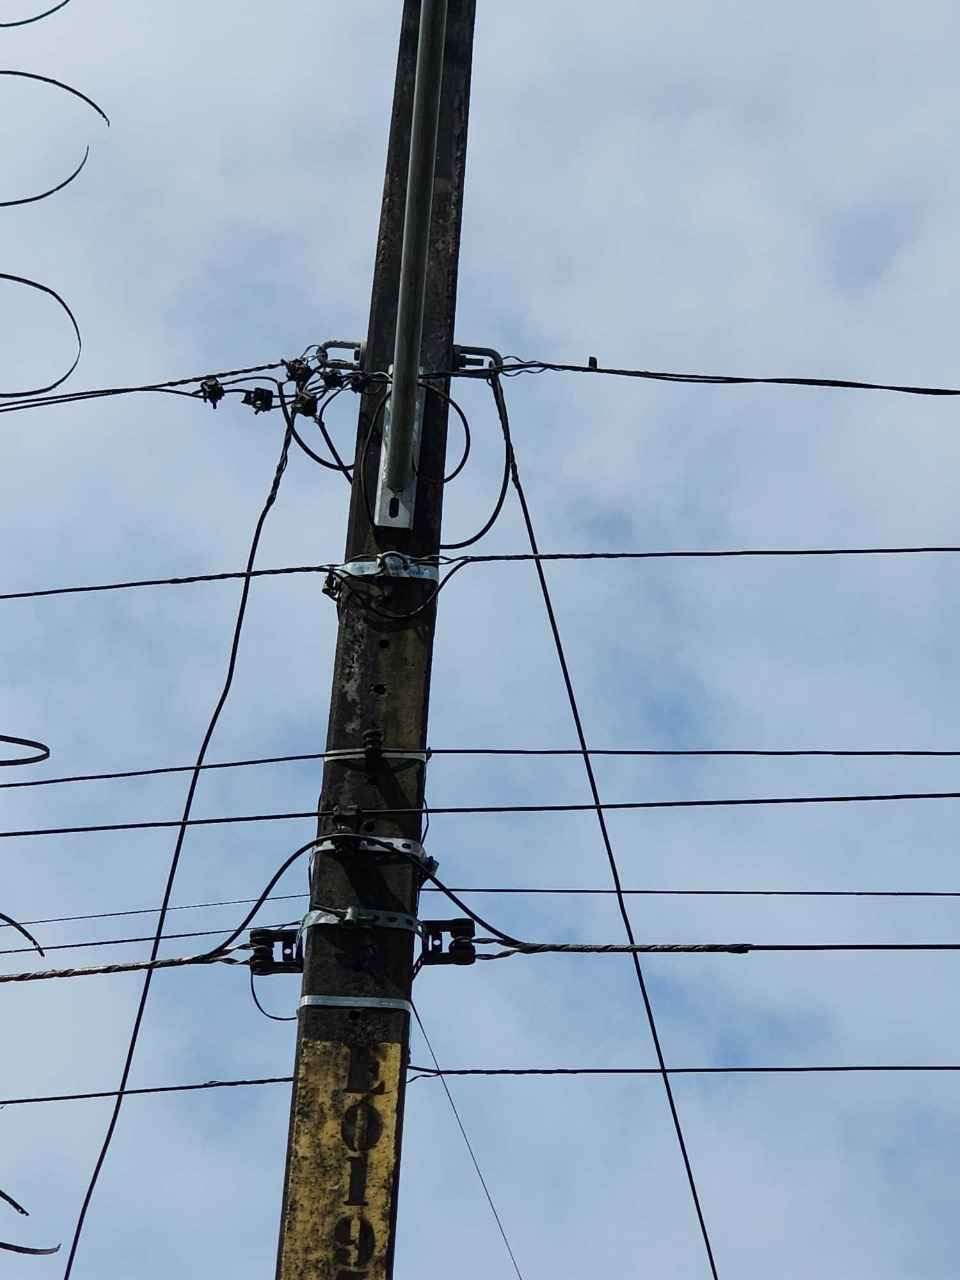poste: (275, 14, 495, 1278)
